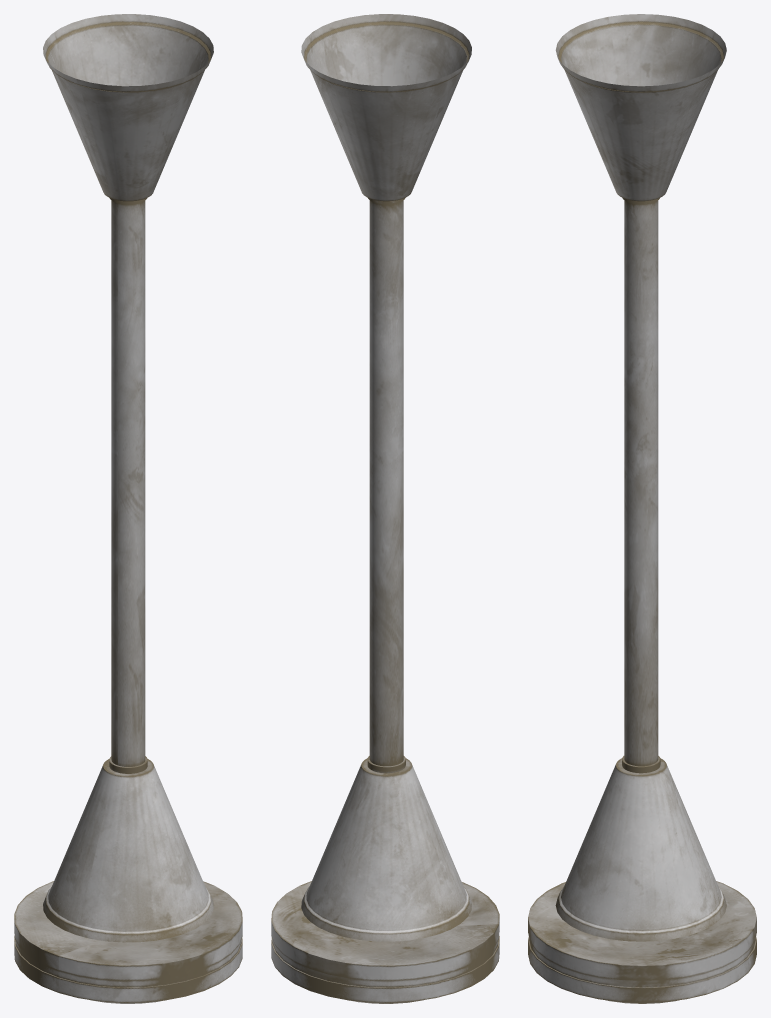
Rendered from ceiling_fan.glb.
3 views of the same model, side by side, from view 1: azimuth 30°, elevation 25°; view 2: azimuth 150°, elevation 25°; view 3: azimuth 270°, elevation 25° (orthographic).
Parts seen in each view (by area): view 1: Cylinder.004; view 2: Cylinder.004; view 3: Cylinder.004.
Part boxes in pixels (bbox=[...]): Cylinder.004: bbox=[14, 14, 242, 1003]; Cylinder.004: bbox=[271, 14, 499, 1003]; Cylinder.004: bbox=[528, 14, 756, 1003].
Size of what is drawn, in the model's own units: 0.1991 by 0.8855 by 0.1991.
1 material, 1 textured.
